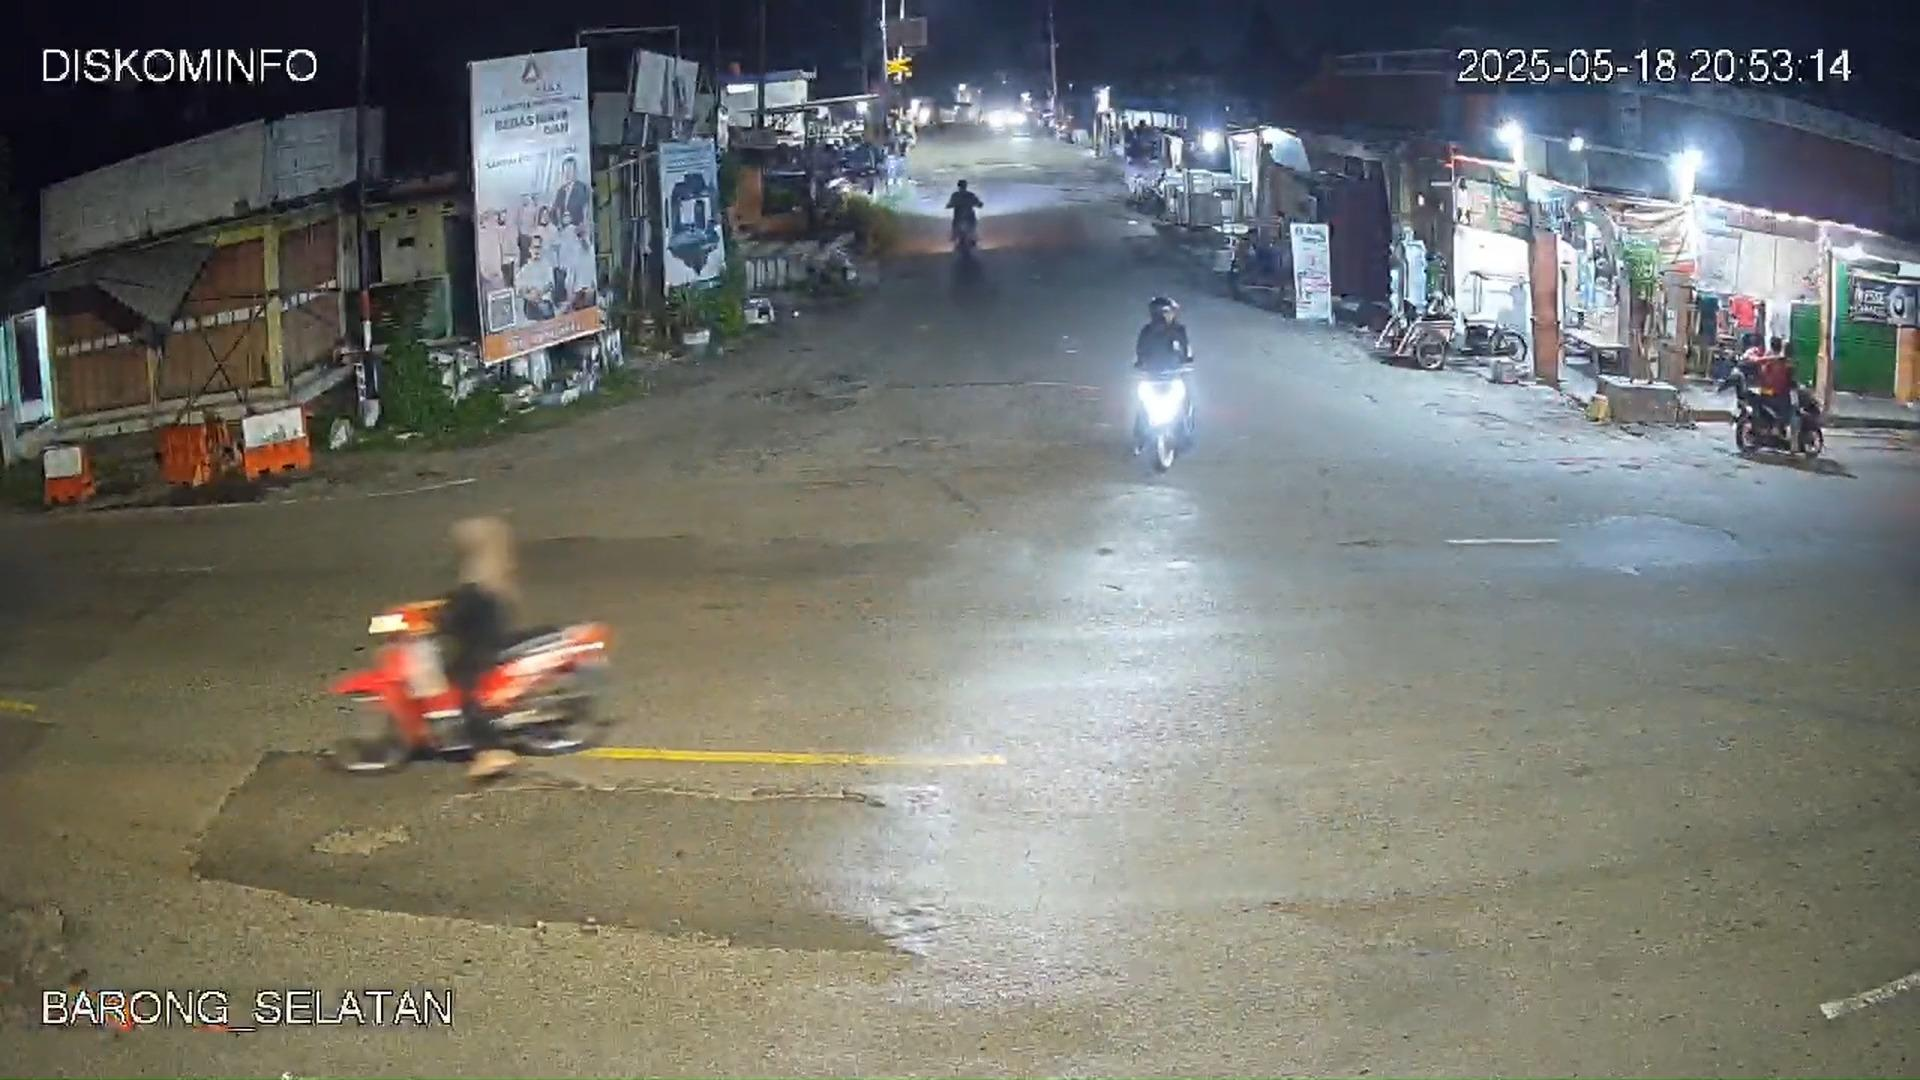Motor: (345, 512, 604, 782), (1127, 291, 1199, 463), (1714, 331, 1808, 452), (945, 178, 984, 257)
